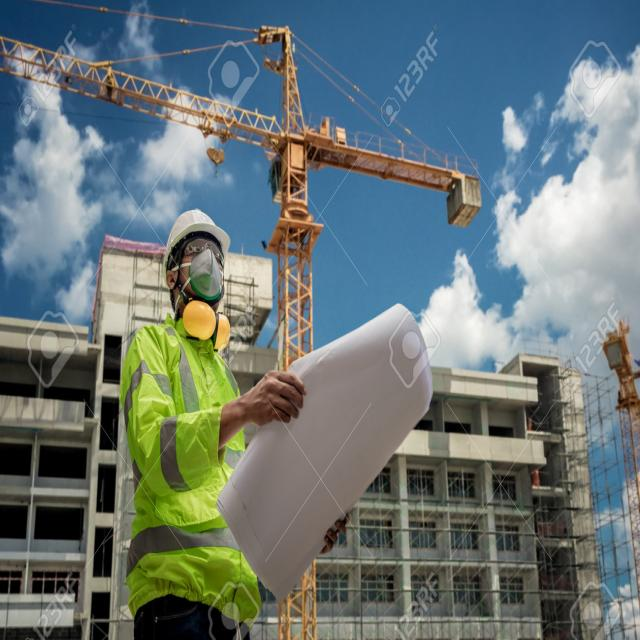goggles: (181, 238, 231, 268)
helmet: (158, 196, 234, 252)
vest: (118, 316, 271, 610)
